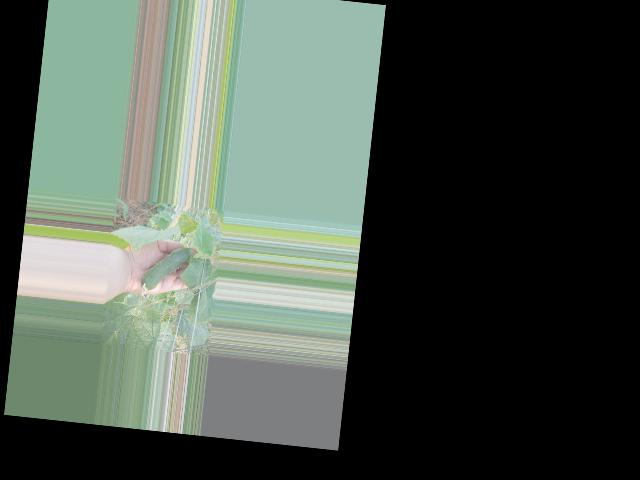cucumber: (139, 243, 191, 301)
